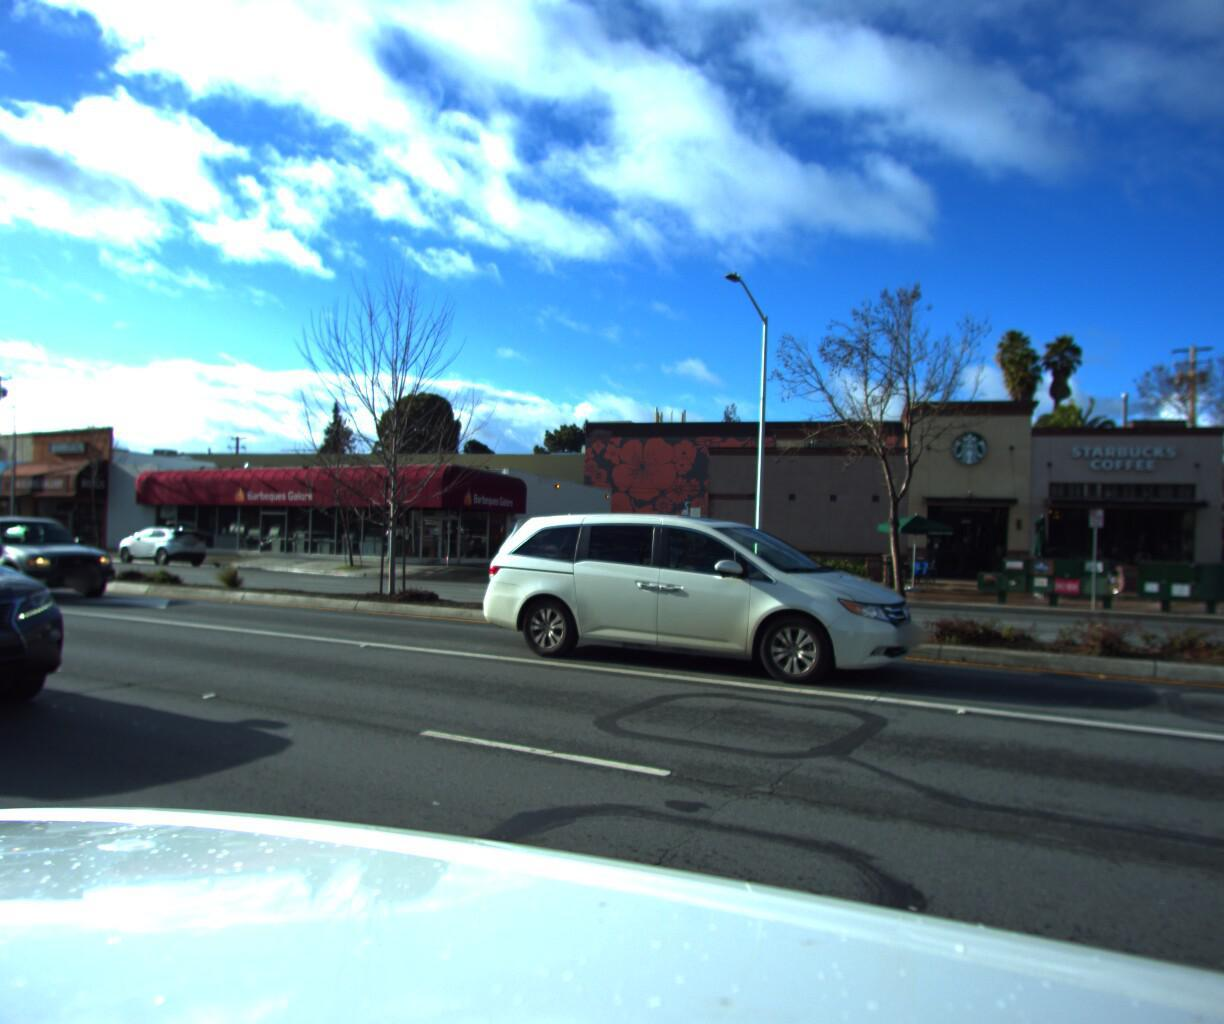car: (469, 503, 938, 692), (0, 475, 110, 783), (0, 505, 137, 602), (112, 519, 216, 561)
